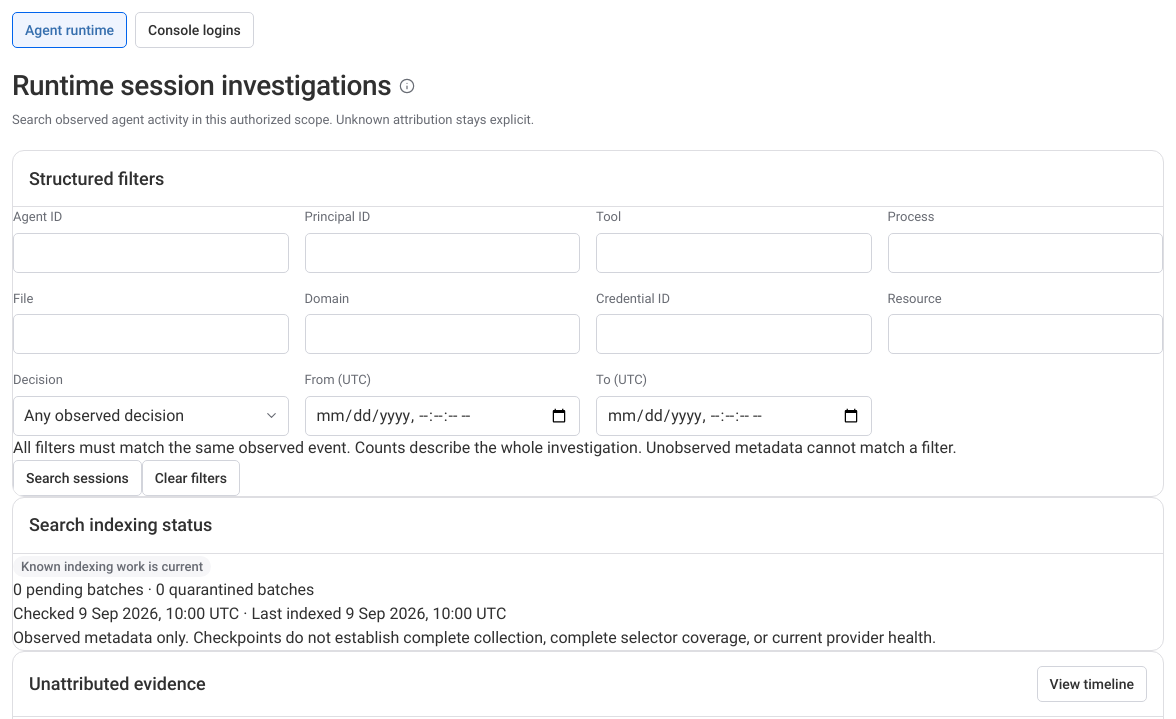
it: production runtime Sessions list › starts with runtime investigations and keeps console logins separate
The width and height of the screenshot is (1176, 719).
Check: the heading "Unattributed evidence" is shown, box x1=29 y1=672 x2=206 y2=696
Click the button "Console logins".
click(194, 30)  # box x1=135 y1=12 x2=254 y2=48
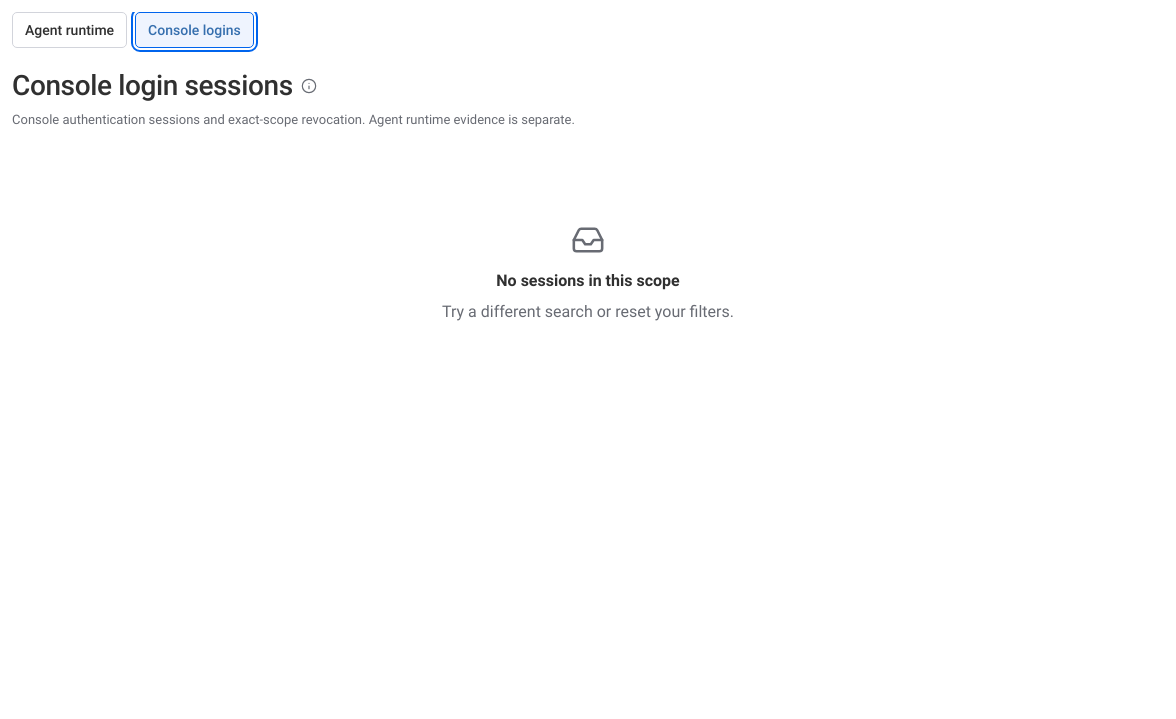
Check: the heading "Console login sessions" is shown, box x1=12 y1=68 x2=293 y2=104
Check: the heading "Unattributed evidence" is gone
